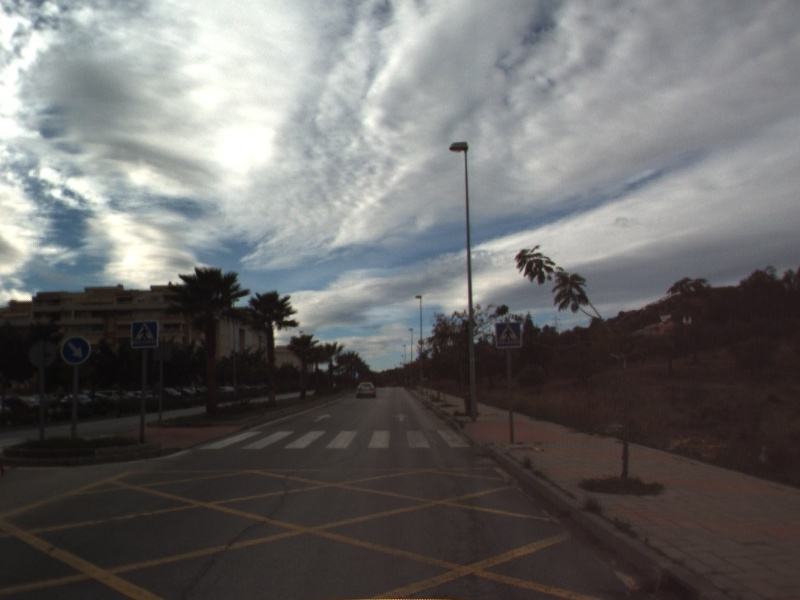STRAIGHT: (312, 412, 334, 424), (392, 411, 411, 423)
